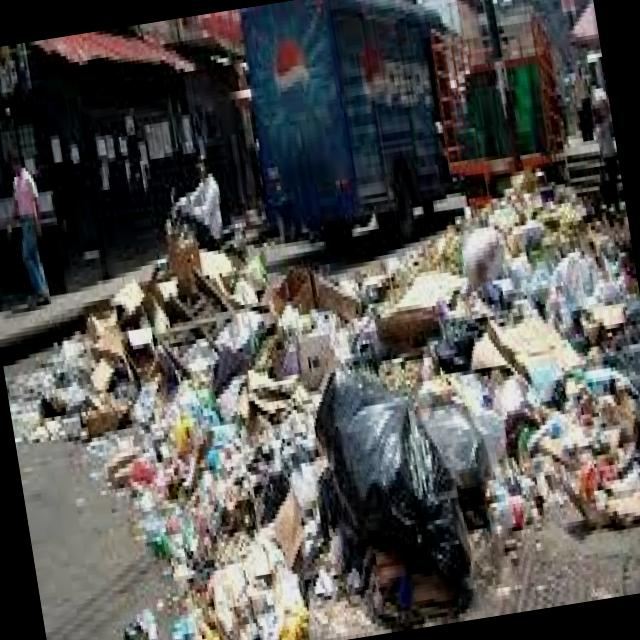garbage: (49, 192, 640, 640)
